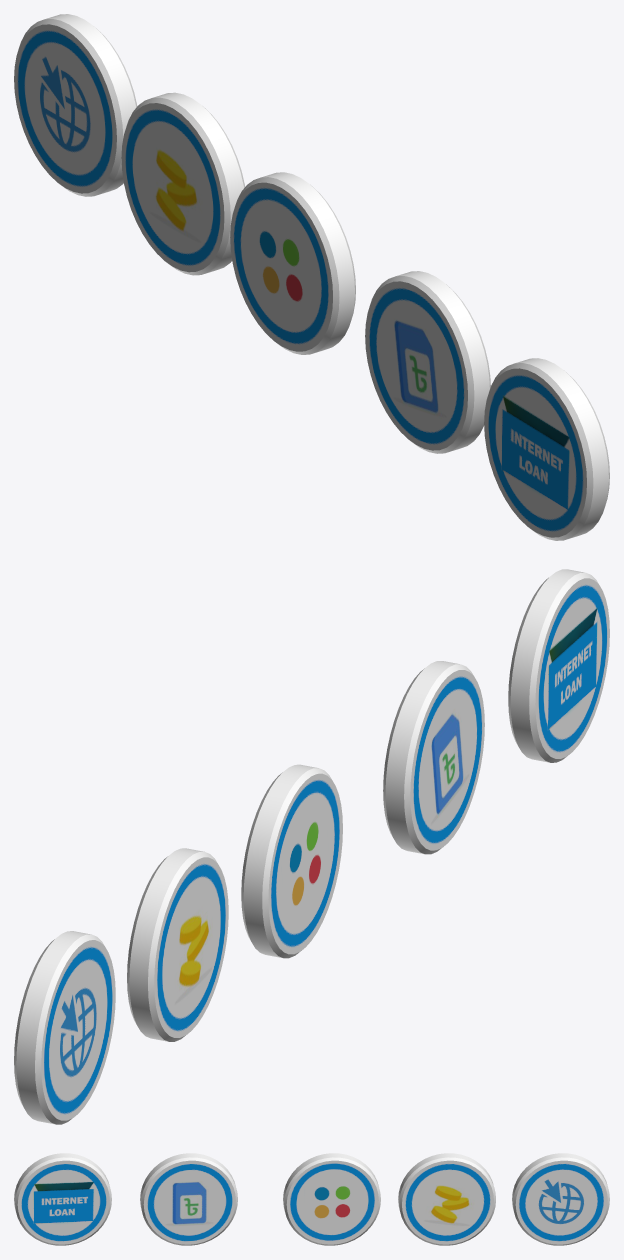
Rendered from COIN.fbx.
The picture shows the model from 3 angles, top to bottom: view 1: azimuth 30°, elevation 25°; view 2: azimuth 150°, elevation 25°; view 3: azimuth 270°, elevation 25°; orthographic projection. The views are drawn at different scales.
Parts seen in each view (by area): view 1: coin4, coin1, coin3, coin2, coin; view 2: coin1, coin3, coin4, coin, coin2; view 3: coin3, coin2, coin1, coin4, coin.
Boxes of the visible parts, x1,y1,x2,y2 form: coin4: [484, 358, 609, 540]; coin1: [230, 172, 355, 354]; coin3: [365, 271, 490, 453]; coin2: [121, 92, 244, 275]; coin: [14, 14, 137, 196]; coin1: [241, 764, 342, 958]; coin3: [383, 661, 484, 854]; coin4: [508, 569, 609, 762]; coin: [14, 931, 115, 1124]; coin2: [127, 848, 228, 1041]; coin3: [140, 1153, 237, 1245]; coin2: [398, 1153, 495, 1245]; coin1: [283, 1153, 380, 1245]; coin4: [14, 1153, 111, 1245]; coin: [512, 1153, 609, 1245].
Size of the model in its own units: 16.14 by 63.57 by 389.
